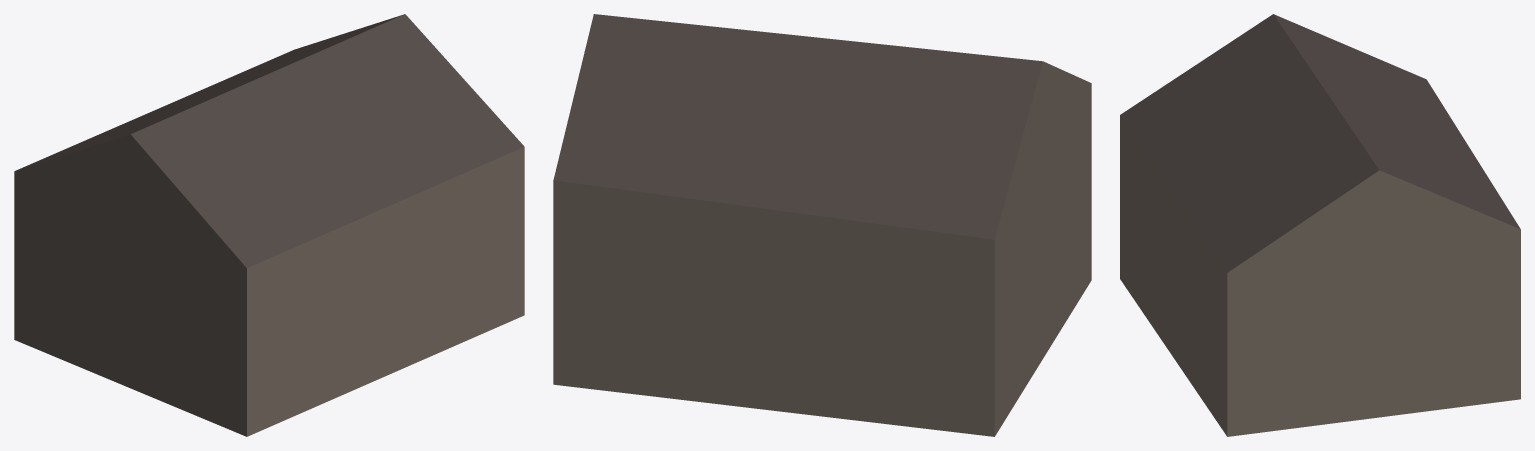
3 views of the same model, side by side, from view 1: azimuth 30°, elevation 25°; view 2: azimuth 150°, elevation 25°; view 3: azimuth 270°, elevation 25° (orthographic). The views are drawn at different scales.
Visible parts, largest first — view 1: HP-w1198667821; view 2: HP-w1198667821; view 3: HP-w1198667821.
Boxes of the visible parts, x1,y1,x2,y2 form: HP-w1198667821: (14,14,524,436); HP-w1198667821: (553,14,1091,436); HP-w1198667821: (1120,14,1520,436).
Size of the model in its own units: 15.19 by 9.04 by 13.29.
